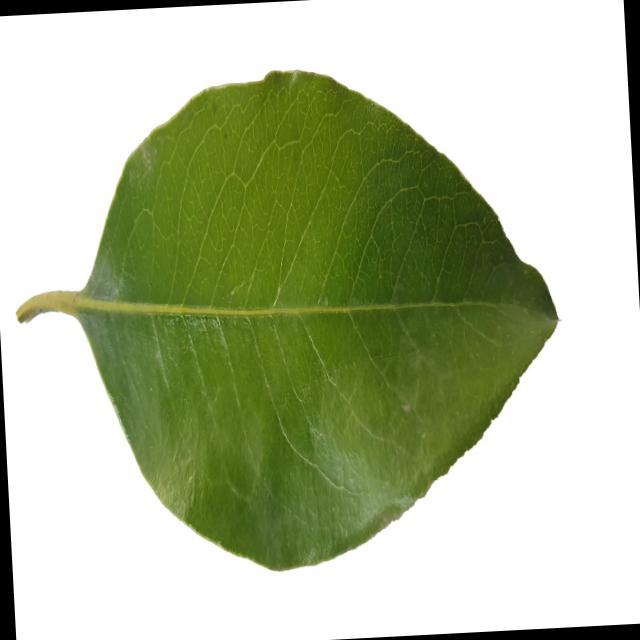Medicinal-Sandalwood: (1, 44, 574, 603)
